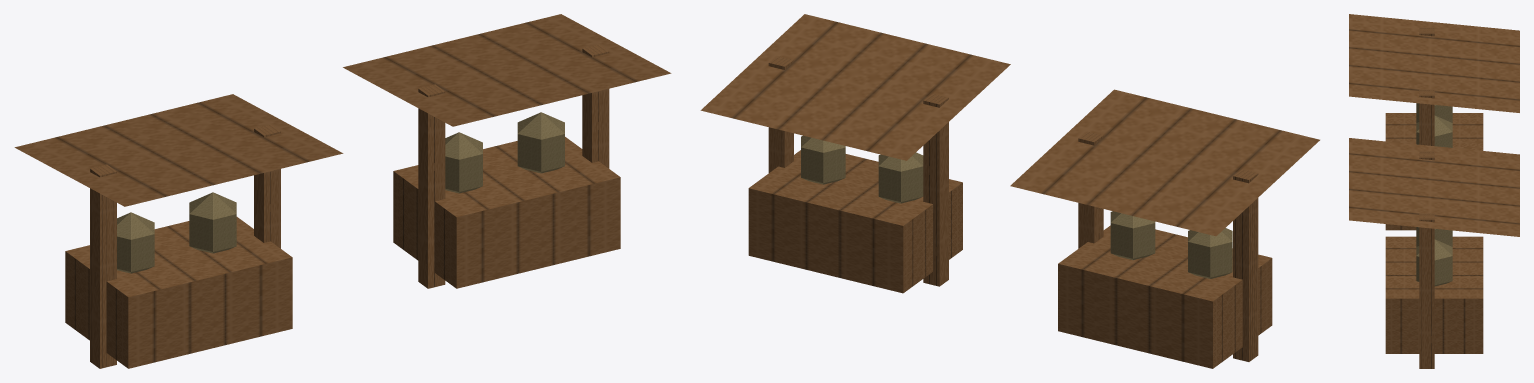
The model's file is domestic-BLACK_MARKET-1-lod0.glb.
The picture shows the model from 3 angles, left to right: view 1: azimuth 30°, elevation 25°; view 2: azimuth 150°, elevation 25°; view 3: azimuth 270°, elevation 25°; orthographic projection. The views are drawn at different scales.
Bounding box in the file's own units: 0.8 × 0.28 × 0.28.
1 material, 1 textured.
